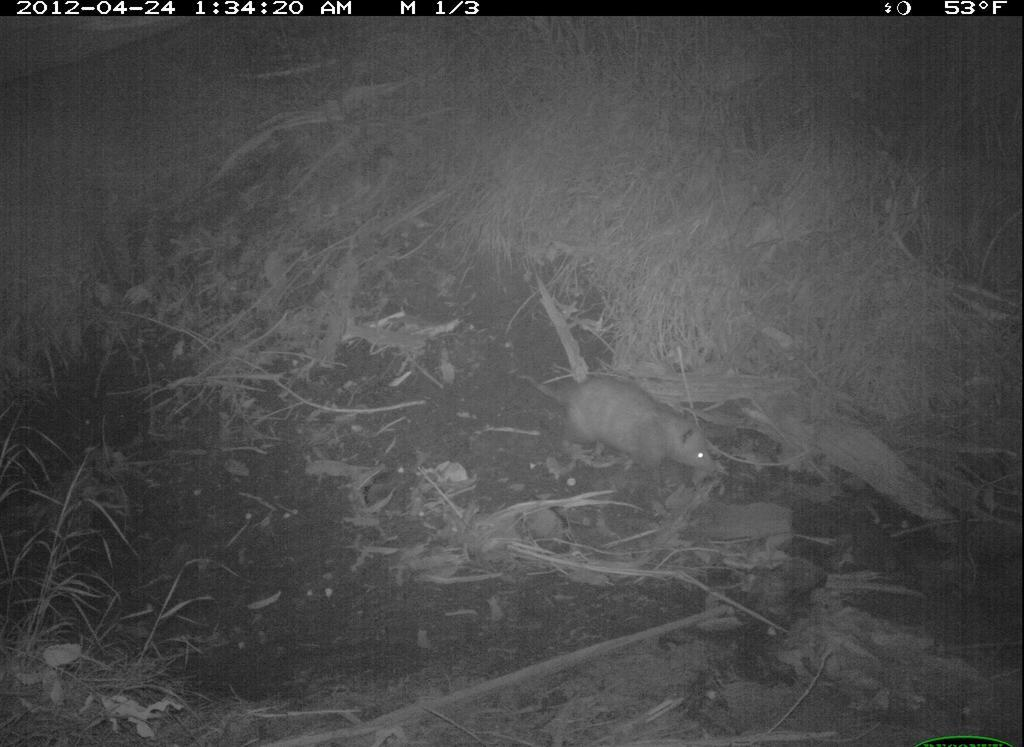opossum: (501, 336, 757, 498)
